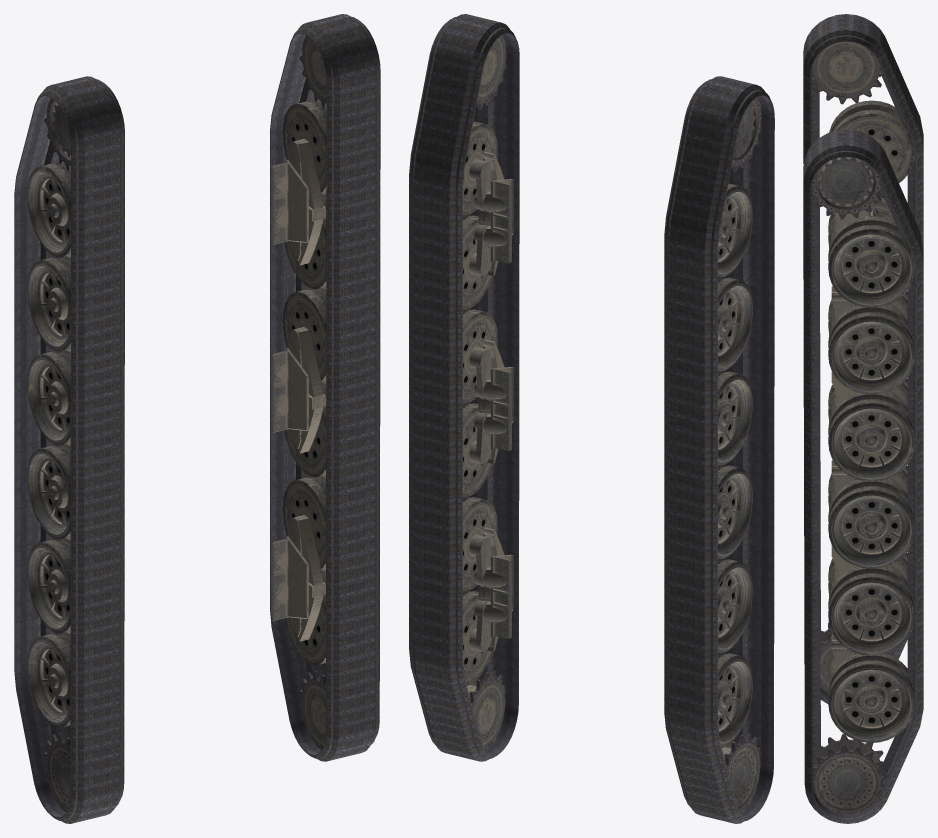
File: Chassis.glb
3 renders of one model, left to right at view 1: azimuth 30°, elevation 25°; view 2: azimuth 150°, elevation 25°; view 3: azimuth 270°, elevation 25°, orthographic. The views are drawn at different scales.
Visible parts, largest first — view 1: set_1_group_0, set_0_group_0, set_3_group_0, set_2_group_0; view 2: set_1_group_0, set_0_group_0, set_3_group_0, set_2_group_0; view 3: set_3_group_0, set_0_group_0, set_2_group_0, set_1_group_0.
Boxes of the visible parts, x1,y1,x2,y2 form: set_1_group_0: (14,76,124,823); set_0_group_0: (270,14,380,761); set_3_group_0: (272,35,326,750); set_2_group_0: (27,98,70,812); set_1_group_0: (664,76,774,823); set_0_group_0: (409,14,519,761); set_3_group_0: (463,35,513,749); set_2_group_0: (718,97,761,812); set_3_group_0: (811,157,914,814); set_0_group_0: (803,129,923,823); set_2_group_0: (811,41,914,693); set_1_group_0: (803,14,923,703).
Bounding box in the file's own units: 2.66 × 6.04 × 0.9723.
4 materials, 4 textured.
